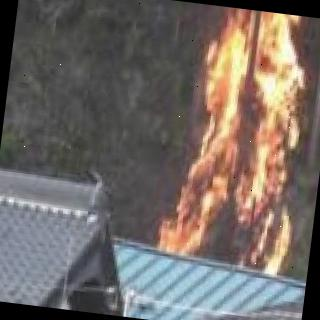fire: (165, 3, 320, 285)
